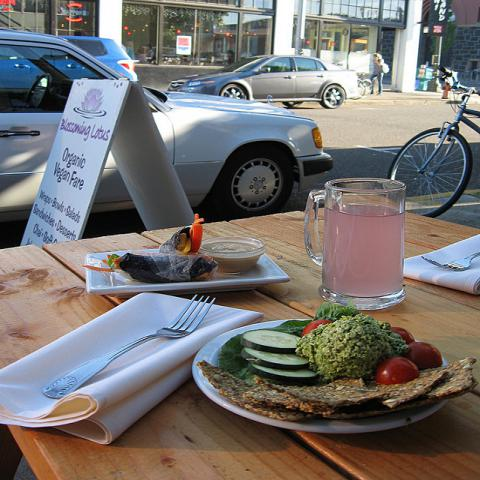car: (1, 28, 335, 241), (167, 54, 360, 109), (57, 36, 139, 80)
